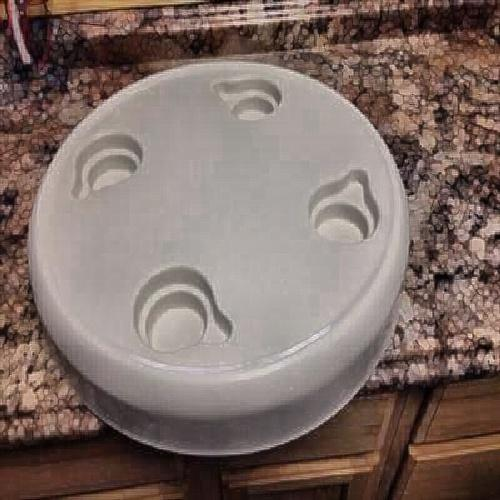table: (18, 35, 493, 472)
